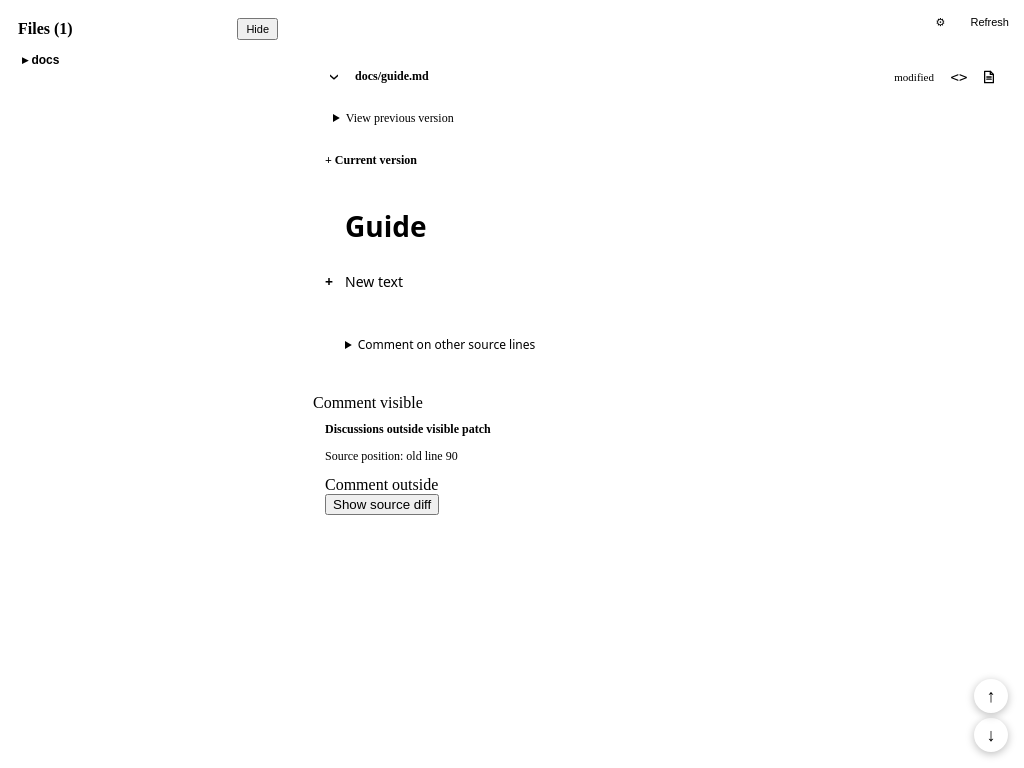
Test: ChangesPanel › keeps rich comments on exact source rows and exposes discussions outside the patch
Earlier steps of the test are not shown.
Expected: the text "Comment outside" is shown, [325,476,438,493]
Expected: the text "Discussions outside visible patch" is shown, [325,422,491,436]
Click the button "Show source diff": (382, 505) [325,494,439,515]
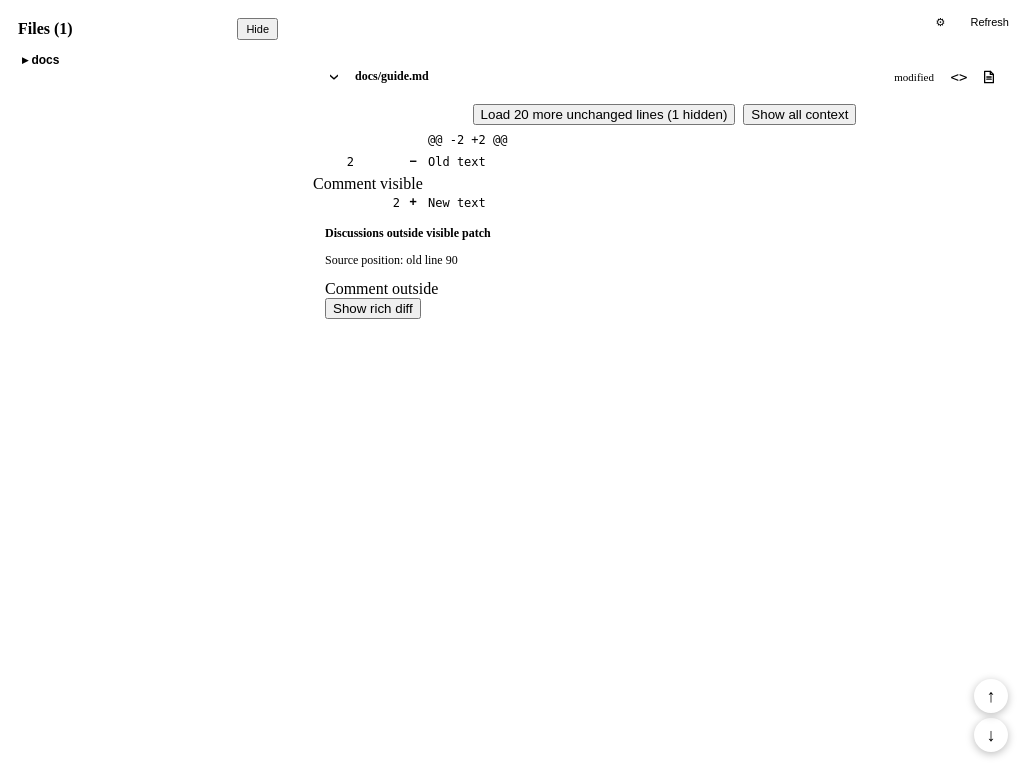
Now the element with class "unified-diff" is shown, box [313,99,1016,216]
